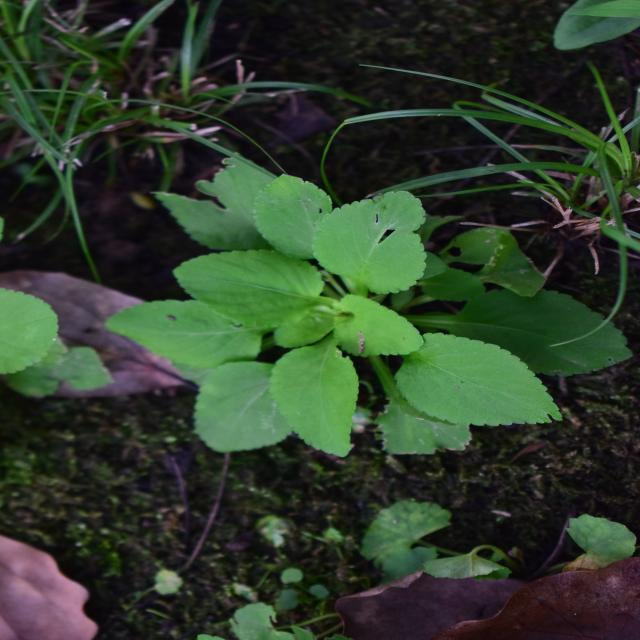Viola: (188, 135, 444, 549)
